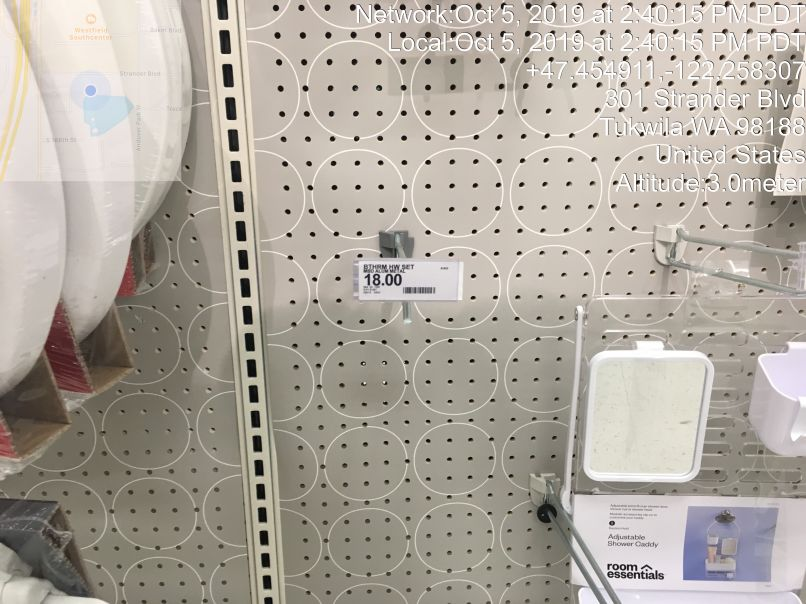Label: (353, 246, 470, 309)
Location: (594, 84, 806, 169)
Time: (347, 4, 806, 57)
Void: (338, 301, 509, 587)
